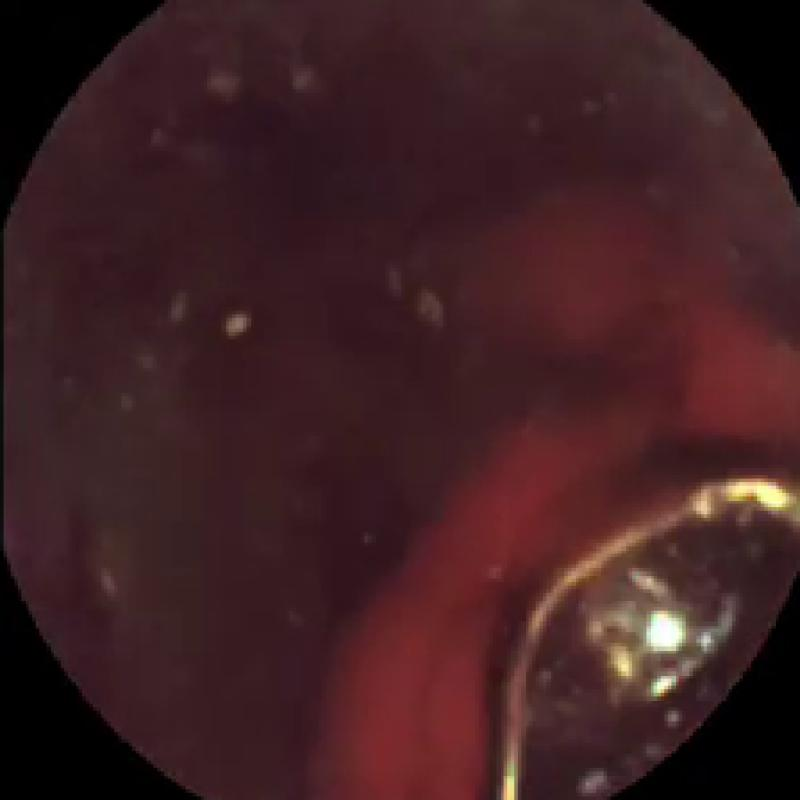bleeding: (285, 210, 800, 800)
